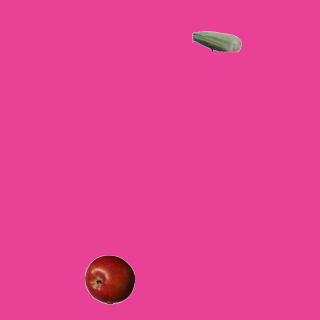Apple Braeburn: (84, 254, 134, 304)
Corn Husk: (191, 16, 241, 66)
